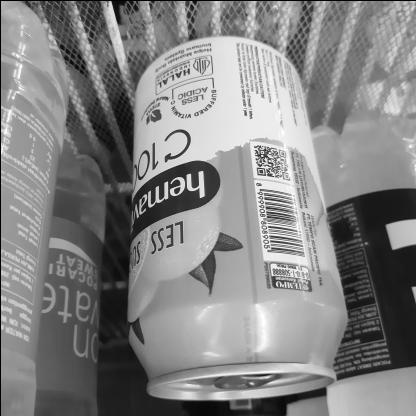alumunium_can: (124, 52, 348, 404)
